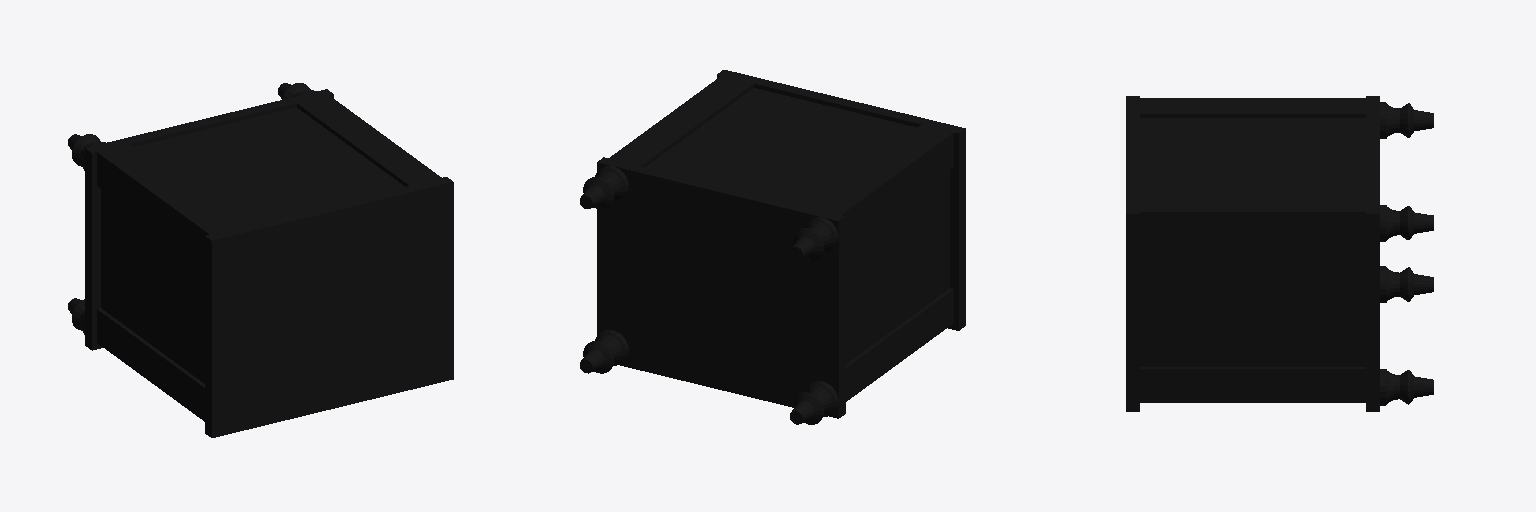
The model's file is 16666_Tradional_Night_Stand_Ebony_V1.obj.
The picture shows the model from 3 angles: view 1: azimuth 30°, elevation 25°; view 2: azimuth 150°, elevation 25°; view 3: azimuth 270°, elevation 25°; orthographic projection.
Visible parts, largest first — view 1: Box6693, Box6685, Box6687, Box6690, Box6692, Box6691, Box6689, Cylinder898; view 2: Box6692, Box6685, Box6687, Box6690, Box6693, Box6691, Box6689, Cylinder896, Cylinder898, Cylinder895, Cylinder897; view 3: Box6686, Box6685, Box6689, Box6688, Box6690, Box6692, Box6693, Cylinder896, Cylinder895, Cylinder898, Cylinder897.
Boxes of the visible parts, x1,y1,x2,y2 form: Box6693: [205, 177, 453, 437]; Box6685: [134, 107, 404, 226]; Box6687: [101, 189, 204, 383]; Box6690: [97, 144, 241, 264]; Box6692: [85, 89, 333, 350]; Box6691: [97, 308, 204, 421]; Box6689: [297, 95, 441, 186]; Cylinder898: [68, 134, 105, 170]; Box6692: [597, 157, 845, 418]; Box6685: [646, 88, 916, 206]; Box6687: [846, 170, 949, 363]; Box6690: [810, 125, 953, 244]; Box6693: [717, 70, 965, 330]; Box6691: [846, 288, 953, 401]; Box6689: [610, 76, 753, 166]; Cylinder896: [580, 330, 628, 373]; Cylinder898: [790, 217, 838, 260]; Cylinder895: [580, 166, 628, 209]; Cylinder897: [790, 381, 838, 424]; Box6686: [1140, 246, 1365, 366]; Box6685: [1140, 118, 1365, 195]; Box6689: [1140, 196, 1365, 245]; Box6688: [1140, 367, 1365, 402]; Box6690: [1140, 98, 1365, 117]; Box6692: [1366, 96, 1379, 411]; Box6693: [1126, 96, 1139, 411]; Cylinder896: [1380, 369, 1433, 405]; Cylinder895: [1380, 205, 1433, 241]; Cylinder898: [1380, 102, 1433, 138]; Cylinder897: [1380, 266, 1433, 302].
Bounding box in the file's own units: 50.2 × 40.04 × 55.2.